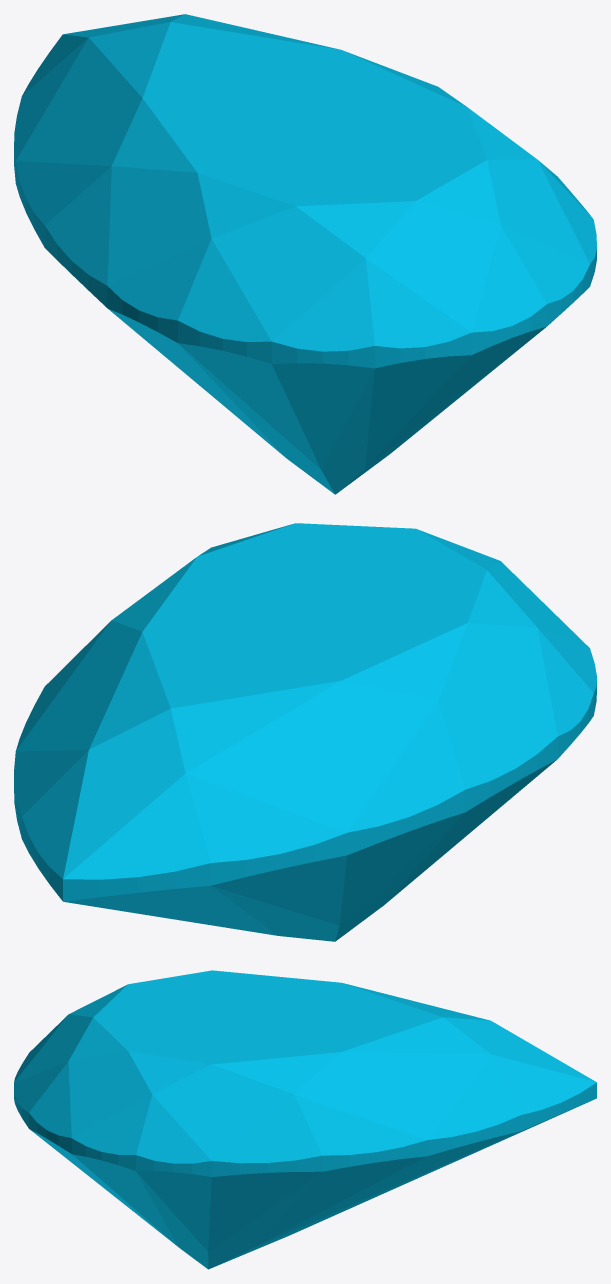
File: Head_Single Halo_Pear_0.75ct_Diamond.glb
3 renders of one model, top to bottom at view 1: azimuth 30°, elevation 25°; view 2: azimuth 150°, elevation 25°; view 3: azimuth 270°, elevation 25°, orthographic. The views are drawn at different scales.
Size of the model in its own units: 0.00503 by 0.00377 by 0.0079.
